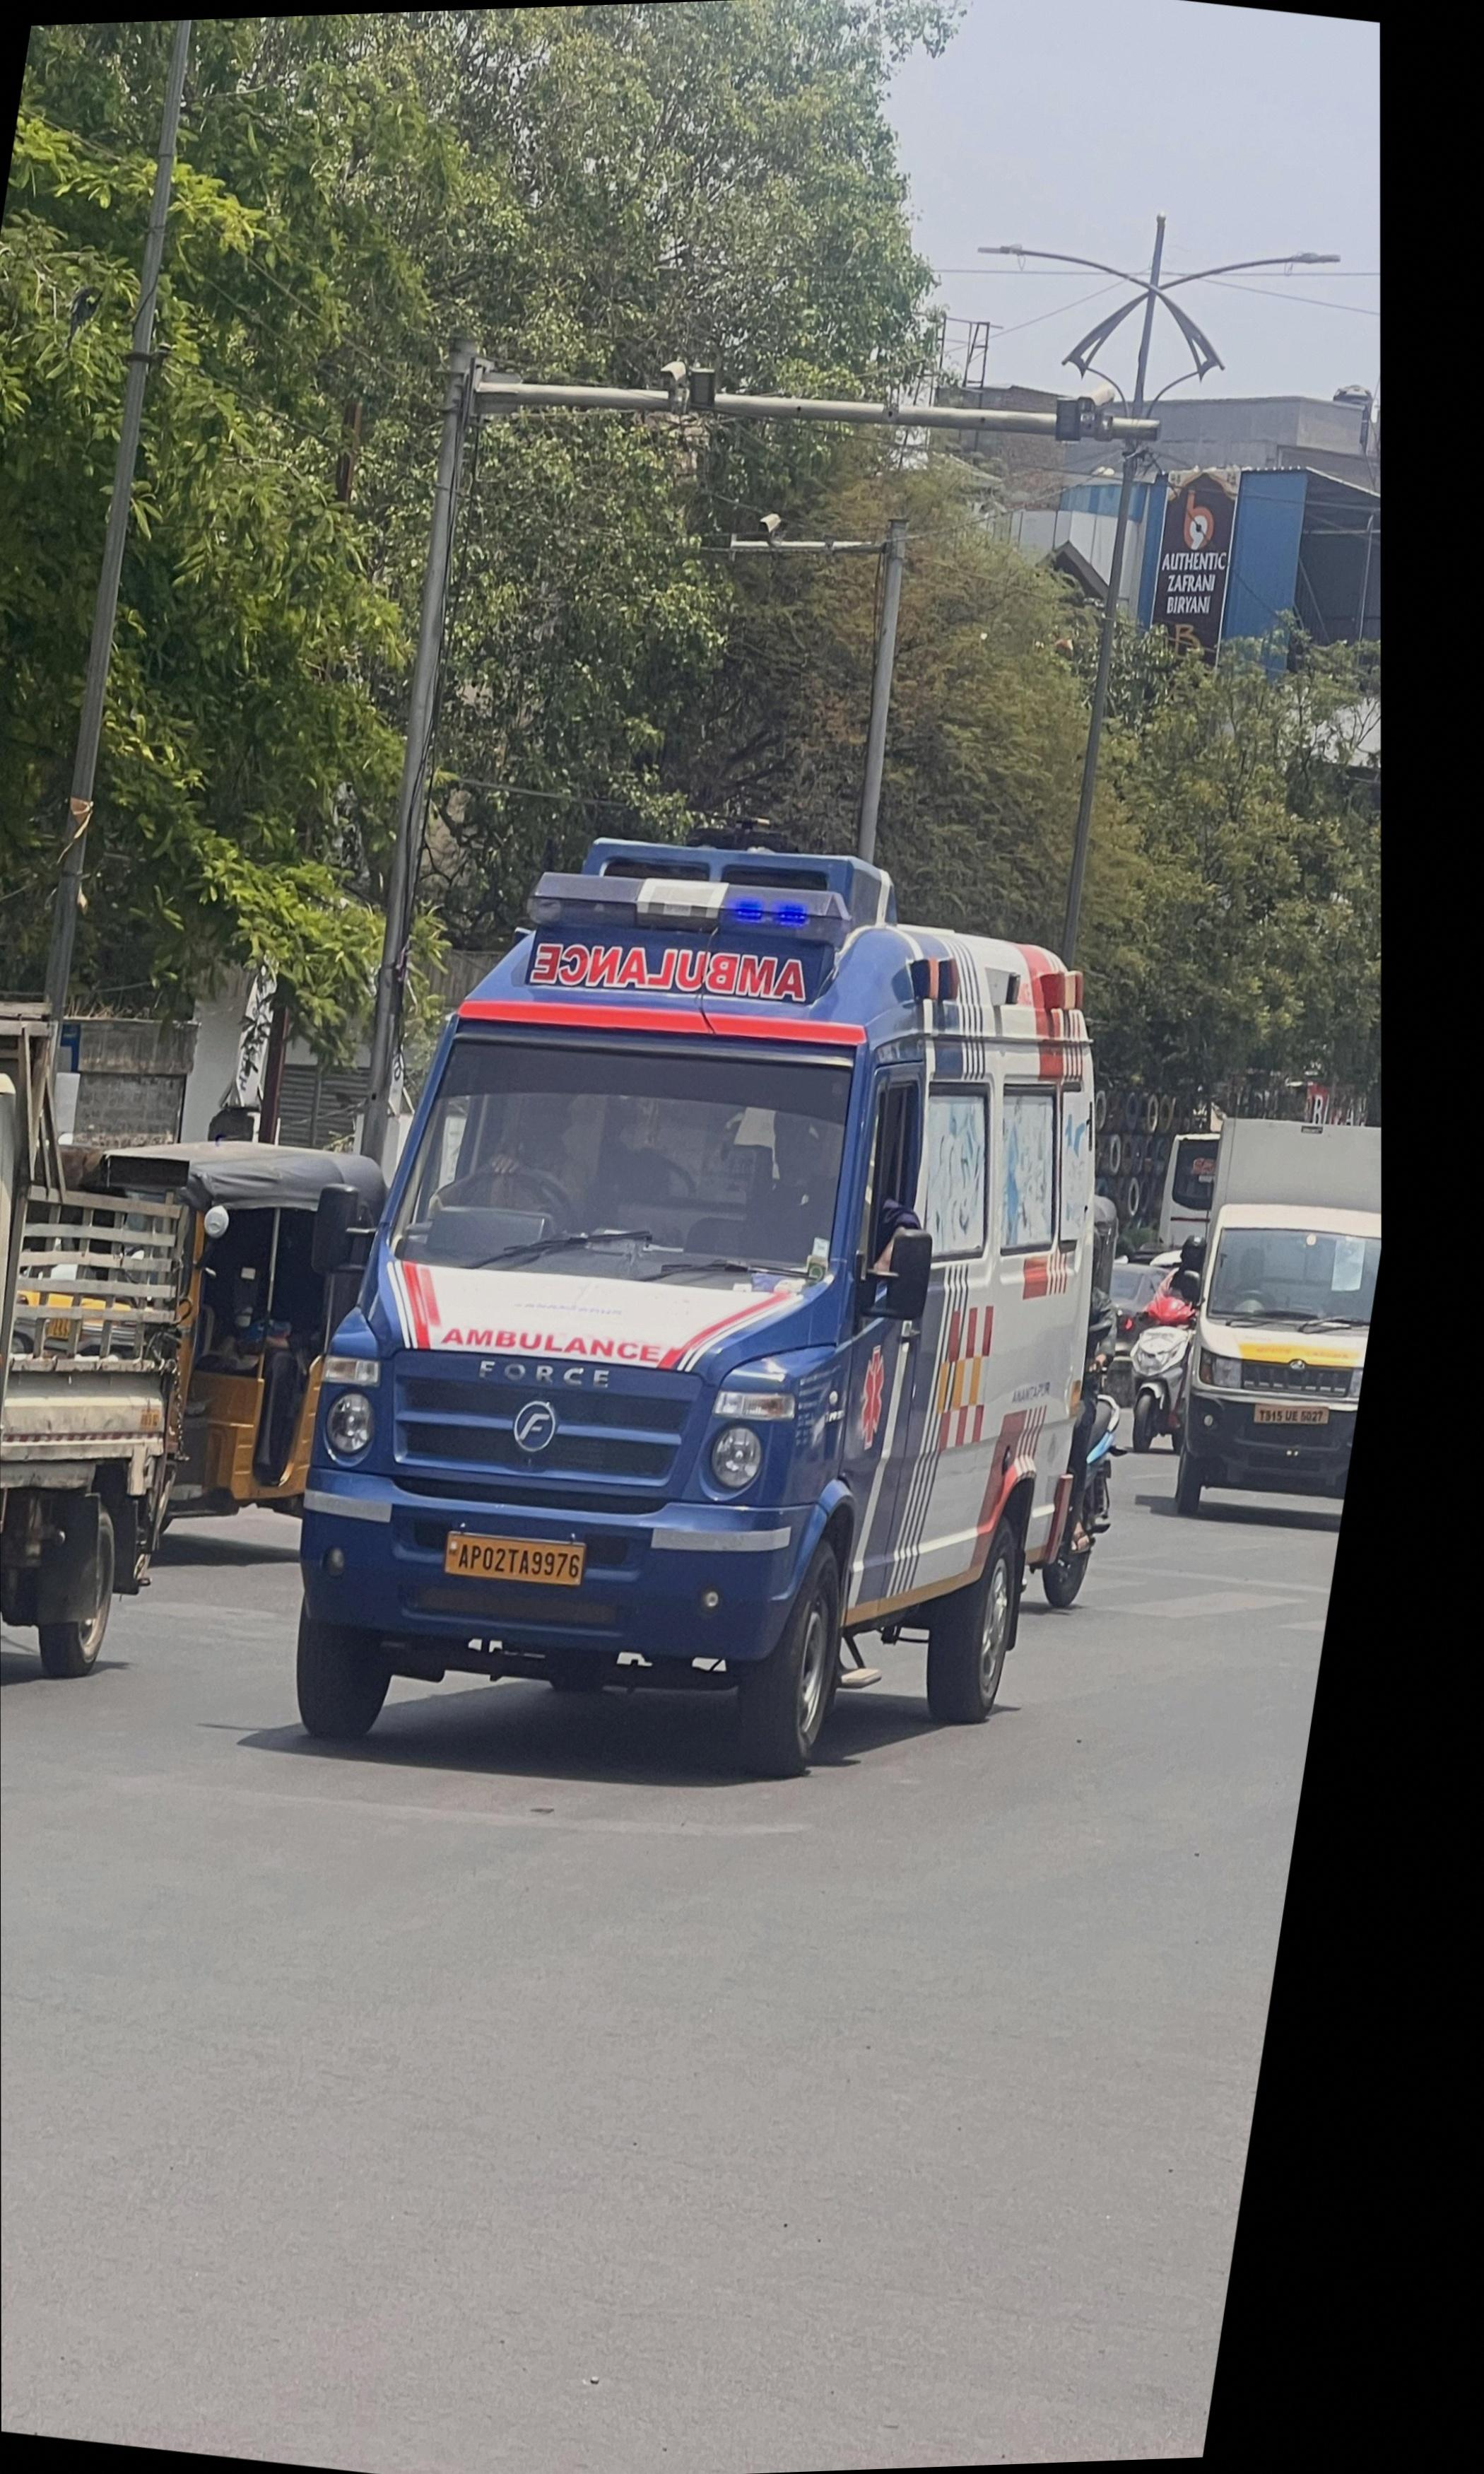ambulance: (293, 839, 1109, 1776)
